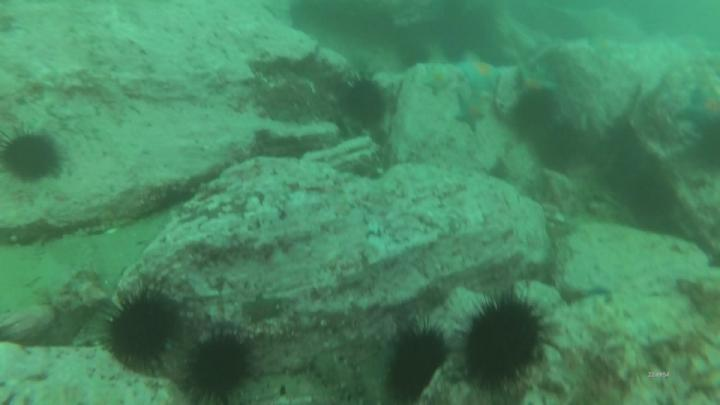echinus: (453, 291, 551, 396), (102, 286, 185, 375), (180, 329, 258, 405), (384, 318, 450, 400), (1, 122, 67, 188), (536, 115, 583, 171), (341, 76, 388, 132), (512, 85, 559, 131), (694, 117, 720, 161), (396, 38, 433, 68)
holothurian: (304, 347, 373, 405)
starfish: (459, 58, 503, 92), (453, 93, 488, 135), (422, 64, 453, 98), (694, 88, 720, 121)
